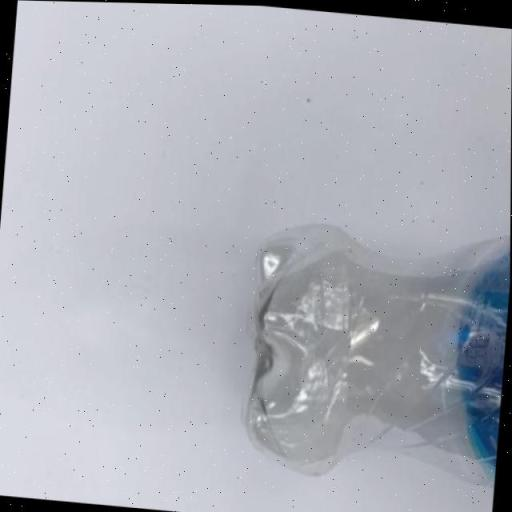plastic: (233, 209, 511, 492)
